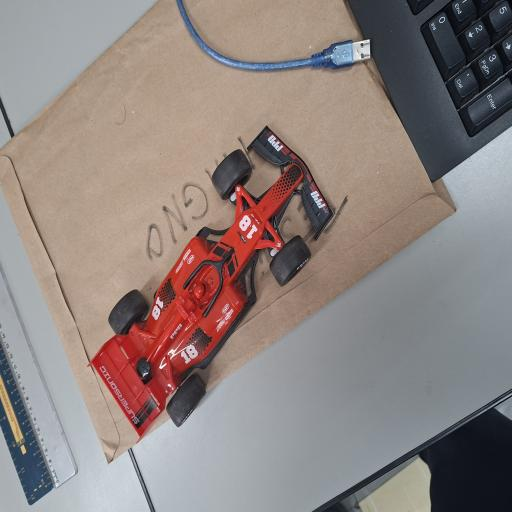carro: (90, 128, 332, 437)
